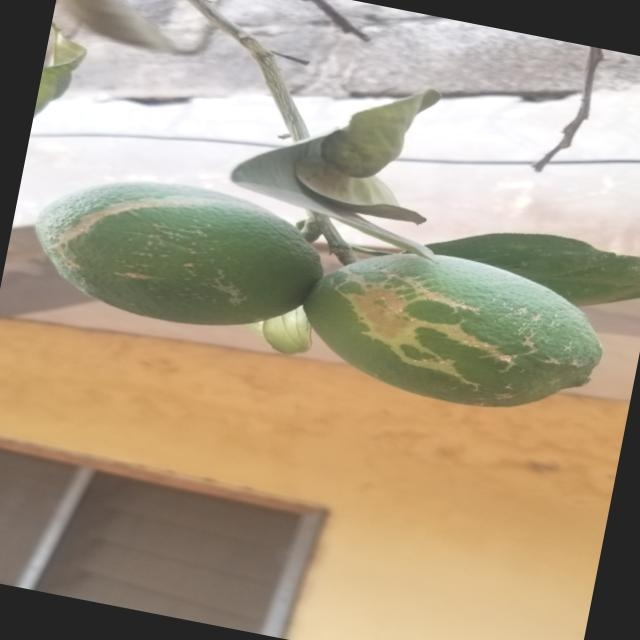agrume: (13, 155, 335, 349), (295, 232, 605, 432)
